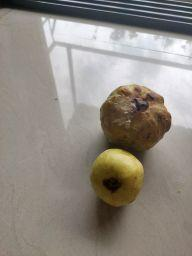guava: (98, 80, 174, 155), (87, 147, 149, 210)
